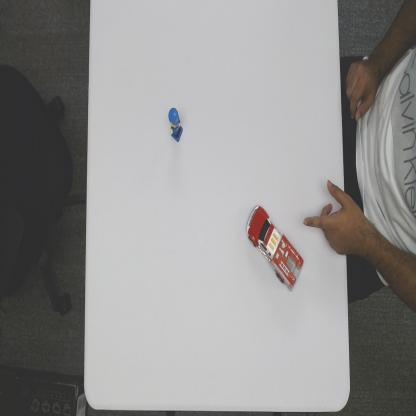Firetruck: (247, 204, 304, 291)
Hand: (306, 181, 367, 261)
